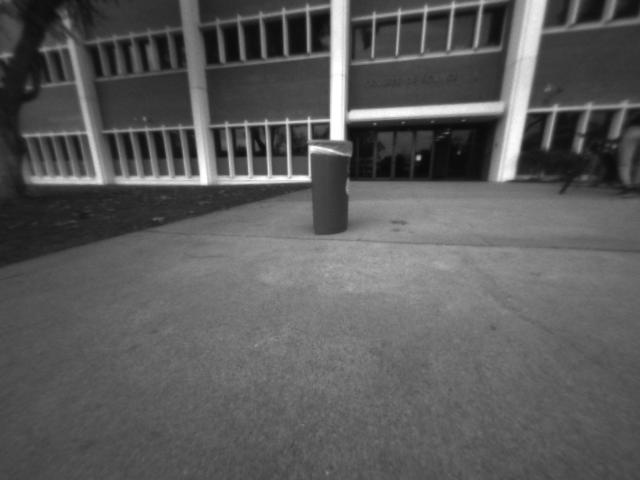trashcan: (301, 131, 360, 243)
